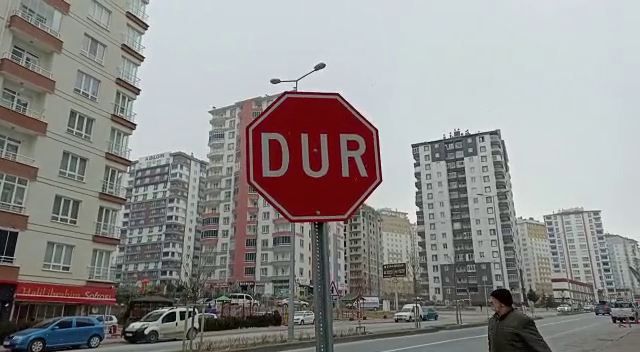stop: (244, 89, 385, 224)
